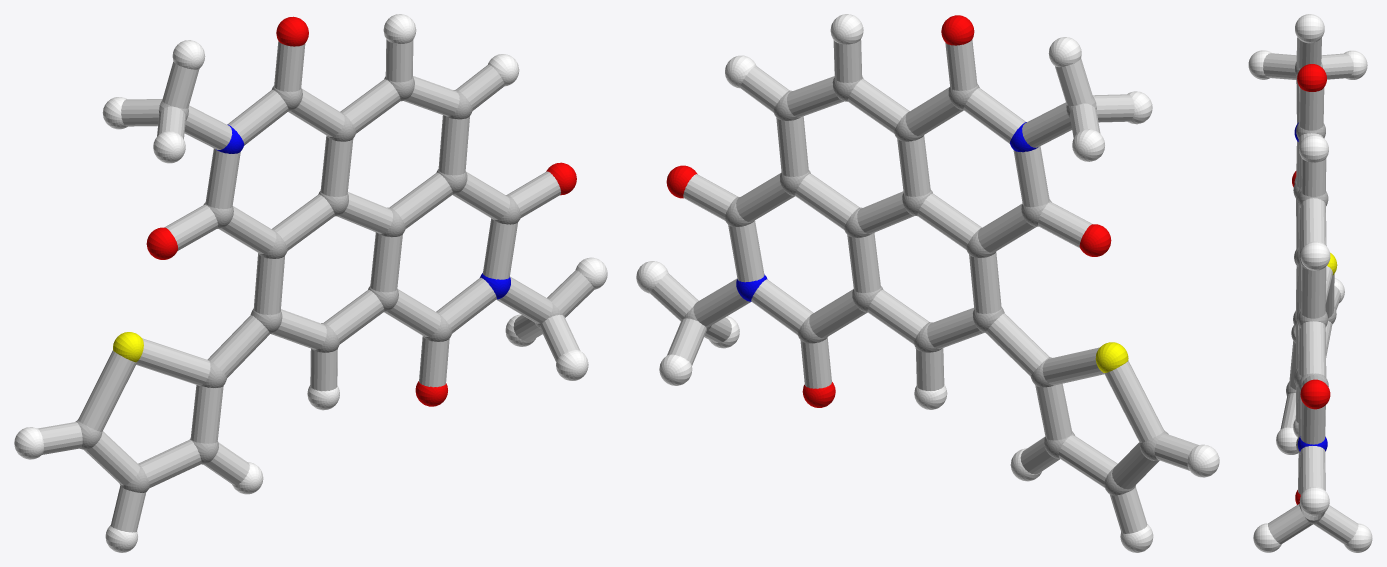
The model's file is Dimethyl_Naphthalene_Dicarboximide_Phi_5_Theta_190_Thiophene.glb.
The picture shows the model from 3 angles, left to right: view 1: azimuth 30°, elevation 25°; view 2: azimuth 150°, elevation 25°; view 3: azimuth 270°, elevation 25°; orthographic projection. The views are drawn at different scales.
Parts seen in each view (by area): view 1: grp14119, grp7241, grp1, grp12309, grp11585, grp13757; view 2: grp14119, grp7241, grp1, grp12309, grp13757, grp11585; view 3: grp14119, grp7241, grp1, grp12309, grp11585.
Boxes of the visible parts, x1,y1,x2,y2 form: grp14119: (37,39,594,532); grp7241: (14,14,607,552); grp1: (75,76,563,492); grp12309: (146,16,576,406); grp11585: (216,124,510,299); grp13757: (113,332,143,362); grp14119: (650,39,1198,533); grp7241: (636,14,1219,552); grp1: (683,77,1168,495); grp12309: (666,15,1111,407); grp13757: (1095,342,1128,372); grp11585: (736,122,1038,301); grp14119: (1263,37,1358,544); grp7241: (1248,14,1372,552); grp1: (1286,62,1336,524); grp12309: (1292,64,1330,504); grp11585: (1294,122,1327,451).
Size of the model in its own units: 12.31 by 9.96 by 2.49.
